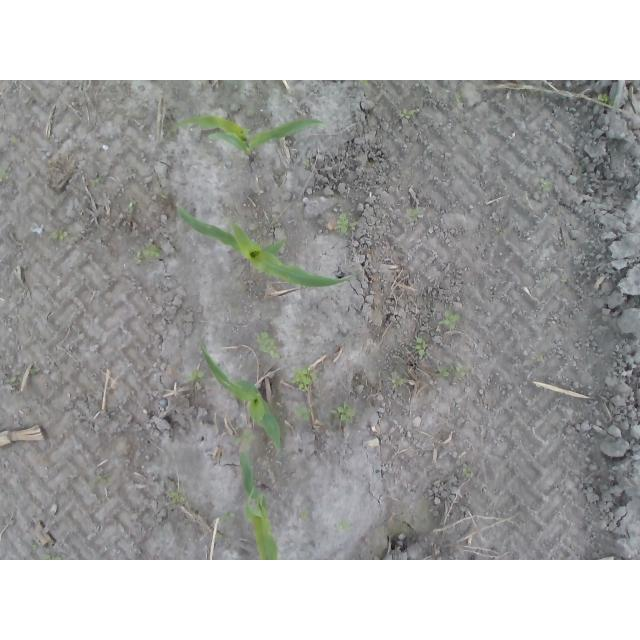Maize: (172, 202, 361, 291), (196, 335, 284, 454), (164, 115, 326, 158), (238, 449, 282, 560)
Weeds: (256, 330, 281, 361), (134, 244, 164, 268), (434, 362, 471, 381), (329, 401, 355, 426), (290, 366, 317, 390), (435, 309, 461, 331), (336, 212, 357, 236), (183, 370, 205, 391), (293, 405, 318, 423), (412, 336, 429, 360), (166, 488, 187, 505), (399, 108, 421, 120), (49, 231, 72, 242), (93, 473, 111, 487), (390, 378, 410, 390), (335, 520, 353, 533), (593, 94, 611, 105), (539, 177, 553, 191), (40, 553, 66, 560), (92, 173, 105, 187), (405, 207, 419, 219), (298, 506, 307, 522), (128, 201, 137, 217), (8, 375, 22, 385), (0, 170, 8, 186), (454, 91, 462, 103), (302, 157, 311, 167), (461, 468, 471, 477), (535, 355, 543, 365), (29, 369, 36, 376)
